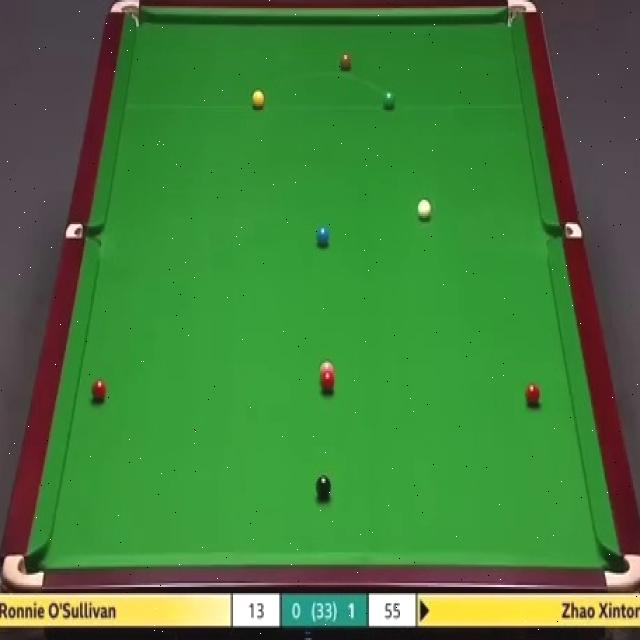black-ball: (314, 475, 333, 498)
blue-ball: (316, 227, 332, 248)
brown-ball: (339, 54, 351, 74)
green-ball: (382, 88, 396, 110)
pink-ball: (319, 360, 334, 375)
red-ball: (90, 377, 108, 403), (523, 382, 542, 406), (322, 372, 336, 393)
white-ball: (417, 195, 429, 217)
yellow-ball: (251, 89, 264, 110)
